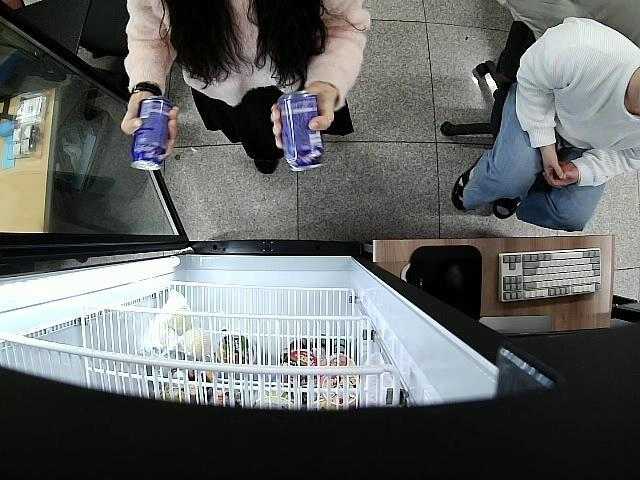14_welchsGrape: (277, 93, 325, 172), (132, 96, 169, 170)
